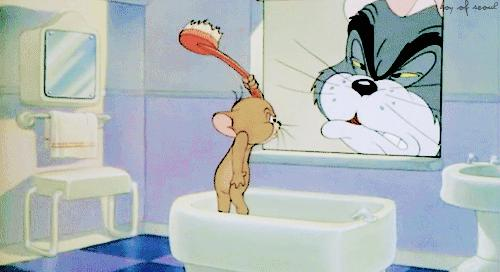jerry: (210, 74, 298, 221)
